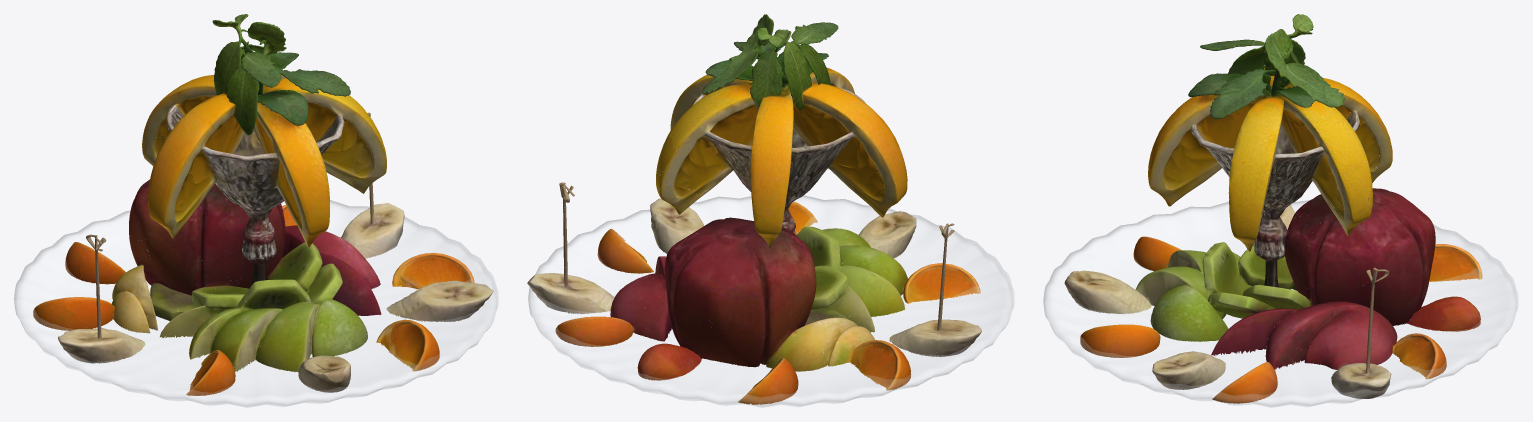
The model's file is meva.glb.
3 renders of one model, left to right at view 1: azimuth 30°, elevation 25°; view 2: azimuth 150°, elevation 25°; view 3: azimuth 270°, elevation 25°, orthographic. The views are drawn at different scales.
Parts seen in each view (by area): view 1: tripo_node_f6bed5d2-f0f5-470c-ae03-b6e4f4fda76a, glassplate; view 2: tripo_node_f6bed5d2-f0f5-470c-ae03-b6e4f4fda76a, glassplate; view 3: tripo_node_f6bed5d2-f0f5-470c-ae03-b6e4f4fda76a, glassplate.
Part boxes in pixels (bbox=[...]): tripo_node_f6bed5d2-f0f5-470c-ae03-b6e4f4fda76a: bbox=[33, 14, 493, 395]; glassplate: bbox=[14, 200, 498, 407]; tripo_node_f6bed5d2-f0f5-470c-ae03-b6e4f4fda76a: bbox=[527, 14, 981, 404]; glassplate: bbox=[528, 195, 1014, 407]; tripo_node_f6bed5d2-f0f5-470c-ae03-b6e4f4fda76a: bbox=[1064, 14, 1482, 403]; glassplate: bbox=[1043, 200, 1518, 407].
Size of the model in its own units: 1.02 by 0.7036 by 1.02.
Materials: 2 (1 with a texture image).
